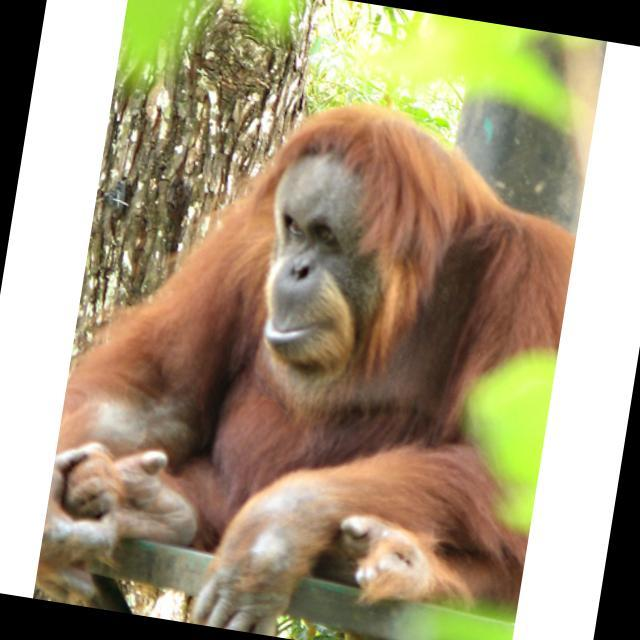Orangutan: (73, 109, 580, 577)
